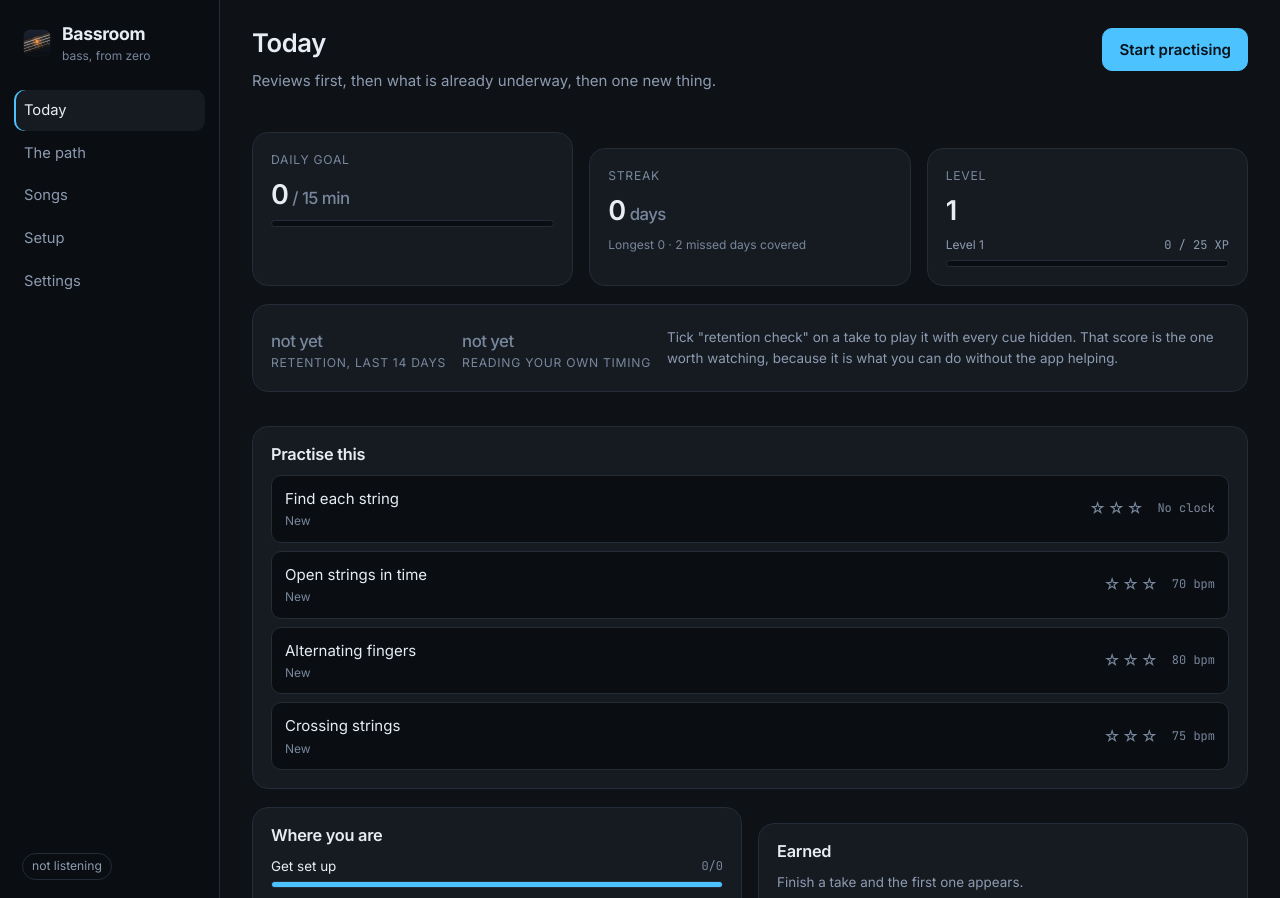
Test: navigation › opens The path without crashing
Click the button "The path" at (110, 153), box [14,133,205,174]
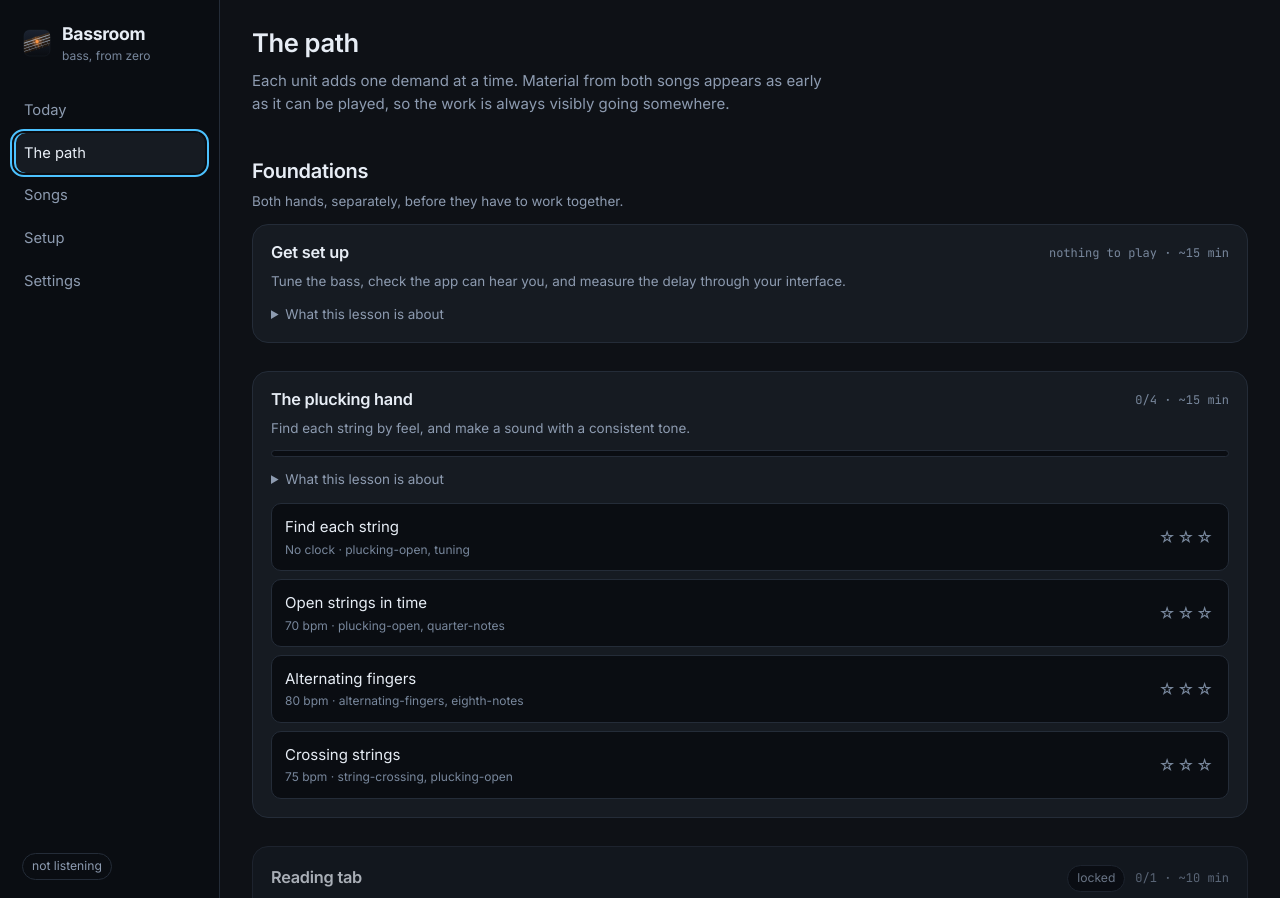
Now the heading "The path" is shown, box [252,27,359,58]
